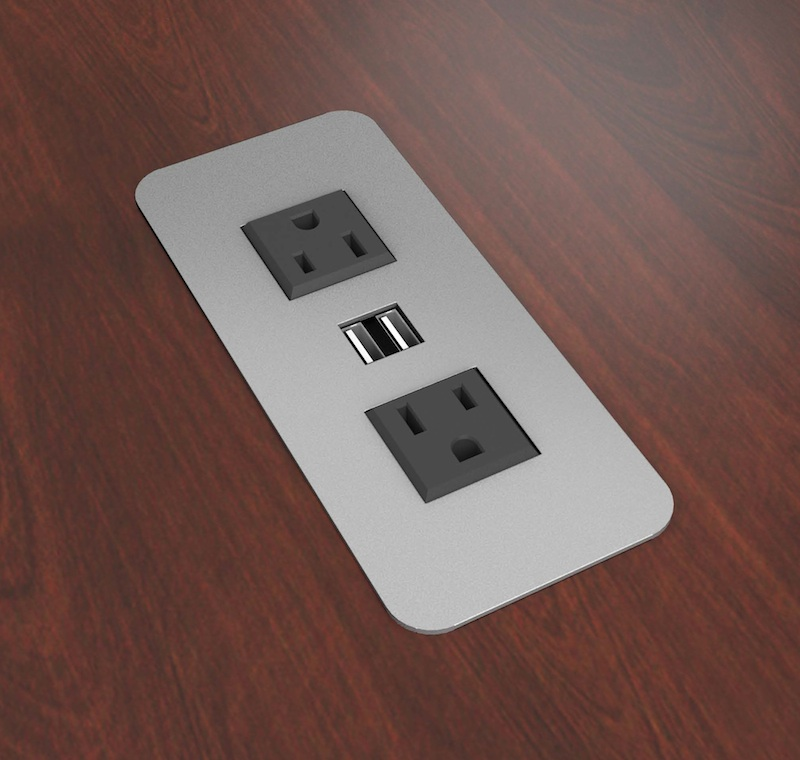outlet: (387, 375, 494, 471), (271, 206, 371, 280)
